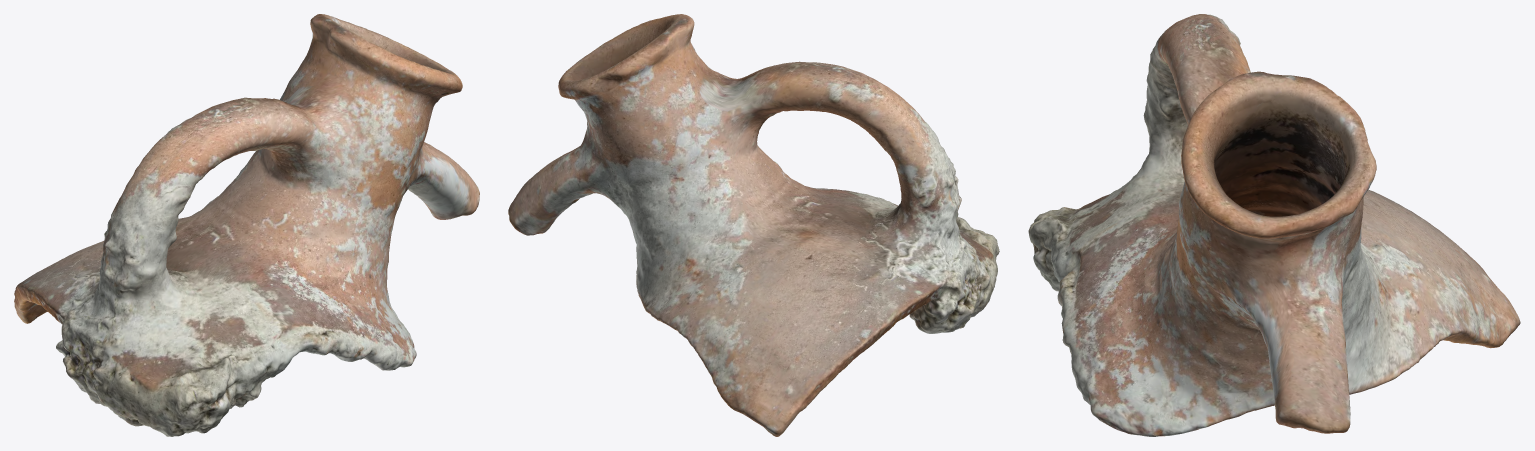
File: amphora.glb
3 renders of one model, left to right at view 1: azimuth 30°, elevation 25°; view 2: azimuth 150°, elevation 25°; view 3: azimuth 270°, elevation 25°, orthographic. The views are drawn at different scales.
Visible parts, largest first — view 1: anfora_keay_LII_text_dec; view 2: anfora_keay_LII_text_dec; view 3: anfora_keay_LII_text_dec.
Boxes of the visible parts, x1,y1,x2,y2 form: anfora_keay_LII_text_dec: [14, 14, 479, 436]; anfora_keay_LII_text_dec: [508, 14, 999, 436]; anfora_keay_LII_text_dec: [1028, 14, 1520, 436].
Bounding box in the file's own units: 0.2573 × 0.174 × 0.2032.
1 material, 1 textured.
